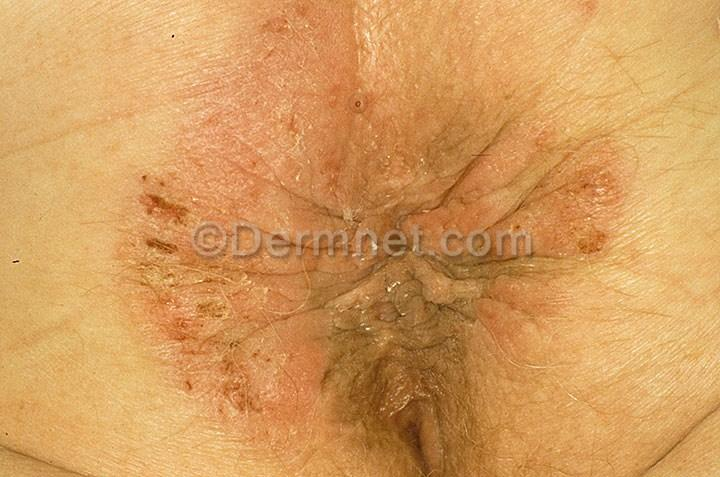Eczema: (338, 255, 569, 439), (131, 251, 348, 442), (112, 87, 341, 228), (348, 73, 554, 217), (563, 133, 632, 275)
